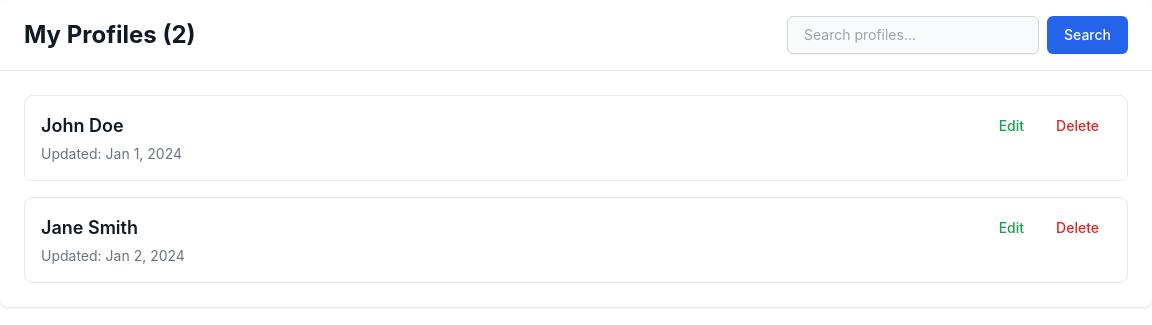
ProfileList › handles search functionality
Check: the heading "John Doe" is shown, box [41,115,124,136]
Check: the heading "Jane Smith" is shown, box [41,217,138,238]
Type "John" into the field with placeholder "Search profiles..." at (913, 35), box [787,16,1039,54]
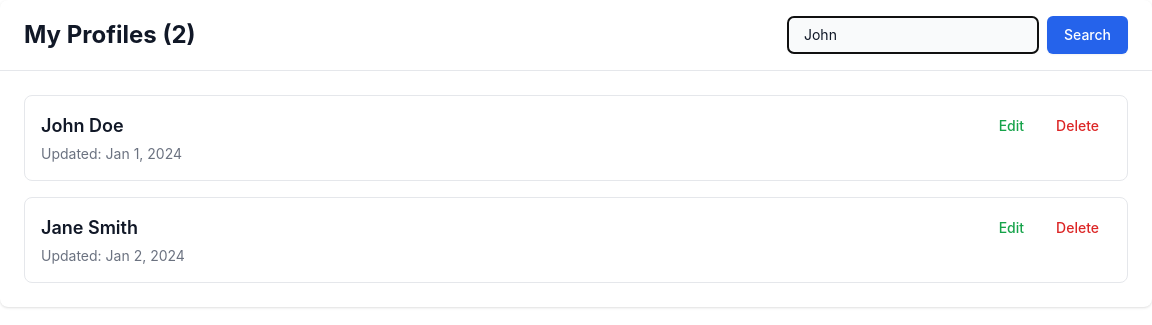
Click the button "Search" at (1088, 35), box [1047,16,1128,54]
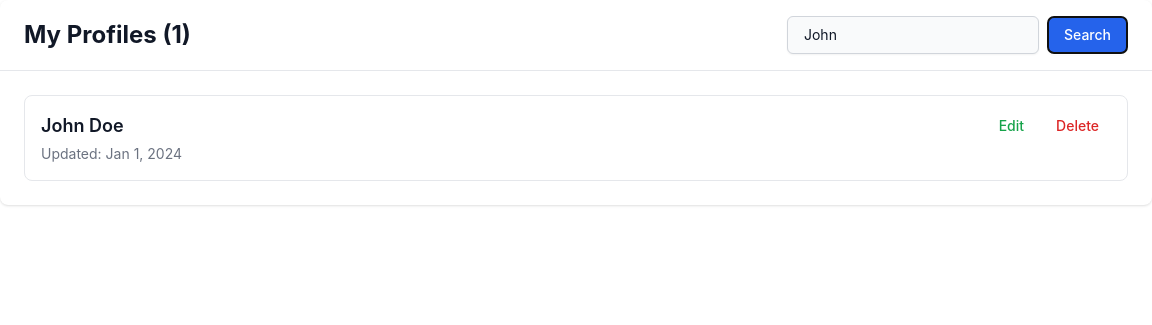
Check: the heading "John Doe" is shown, box [41,115,124,136]
Check: the heading "Jane Smith" is gone
